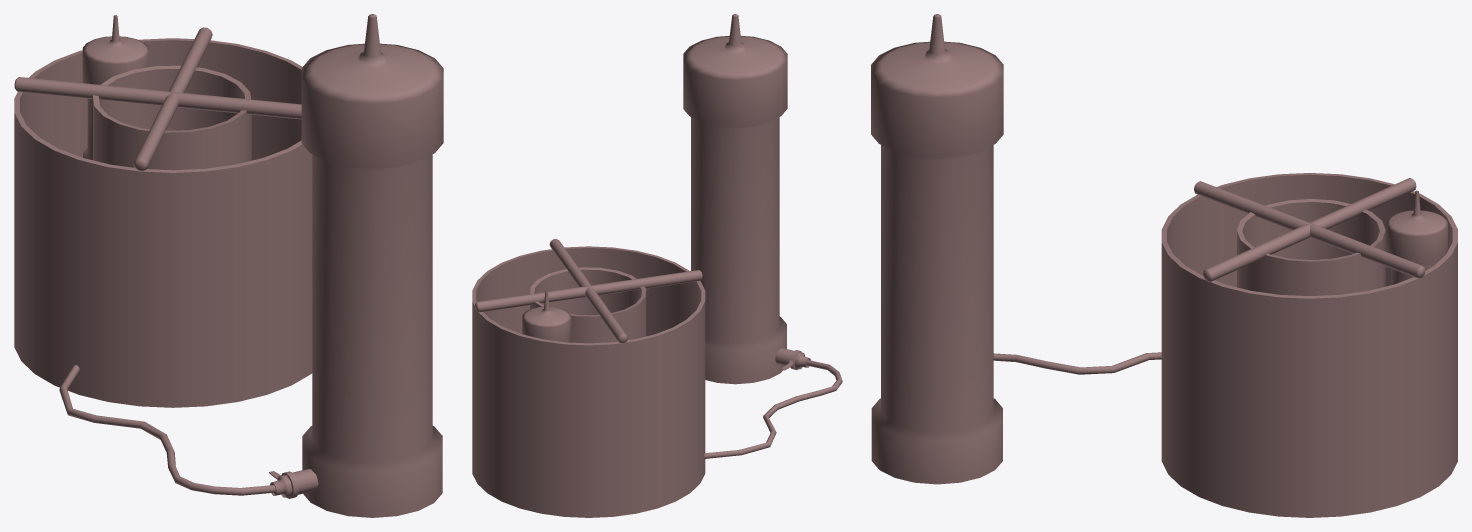
The picture shows the model from 3 angles, left to right: view 1: azimuth 30°, elevation 25°; view 2: azimuth 150°, elevation 25°; view 3: azimuth 270°, elevation 25°; orthographic projection. The views are drawn at different scales.
Visible parts, largest first — view 1: low1; view 2: low1; view 3: low1.
Boxes of the visible parts, x1=… form: low1: x1=14, y1=14, x2=443, y2=517; low1: x1=472, y1=14, x2=842, y2=517; low1: x1=871, y1=14, x2=1457, y2=517.
Size of the model in its own units: 0.6843 by 0.9821 by 1.18.
